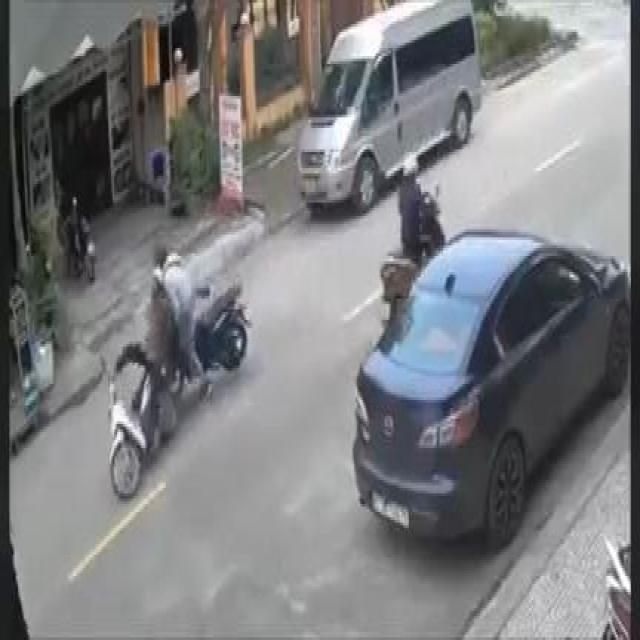accident: (104, 240, 253, 509)
